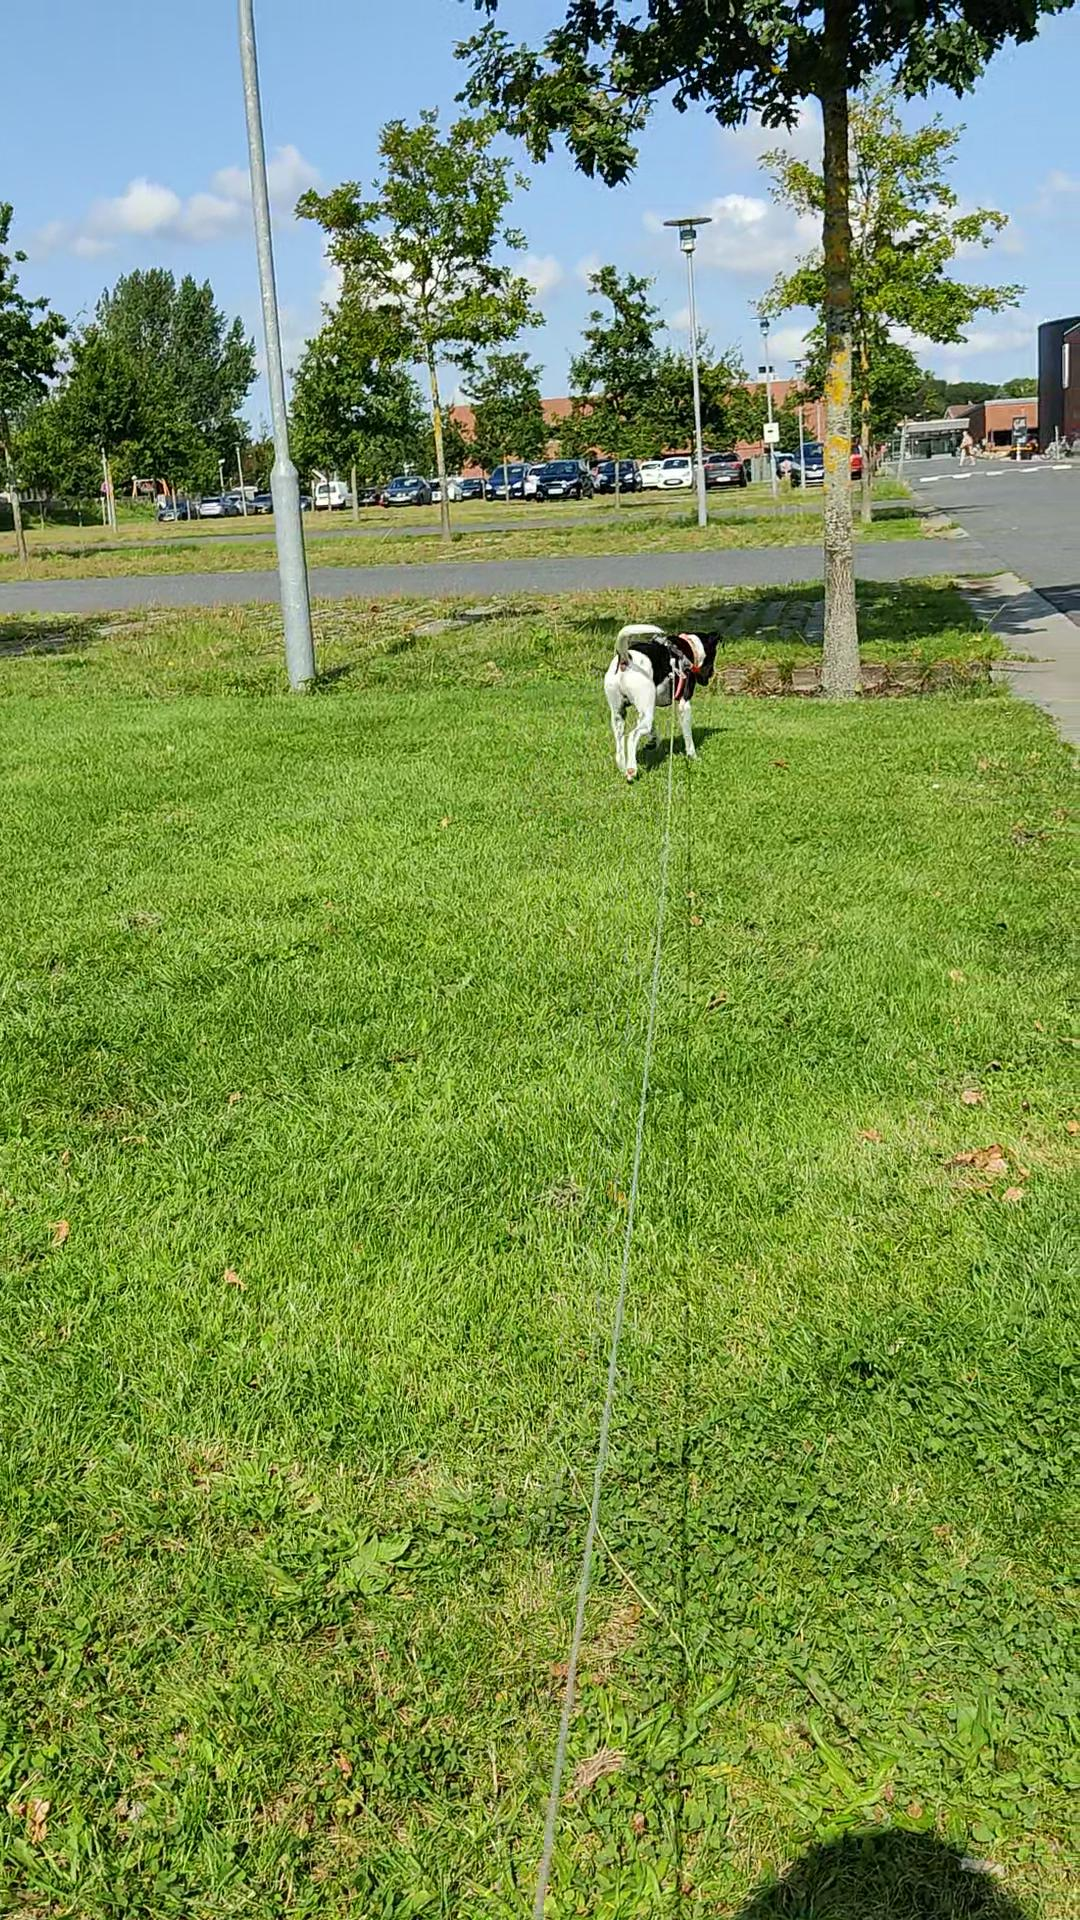Dog: (599, 617, 727, 790)
